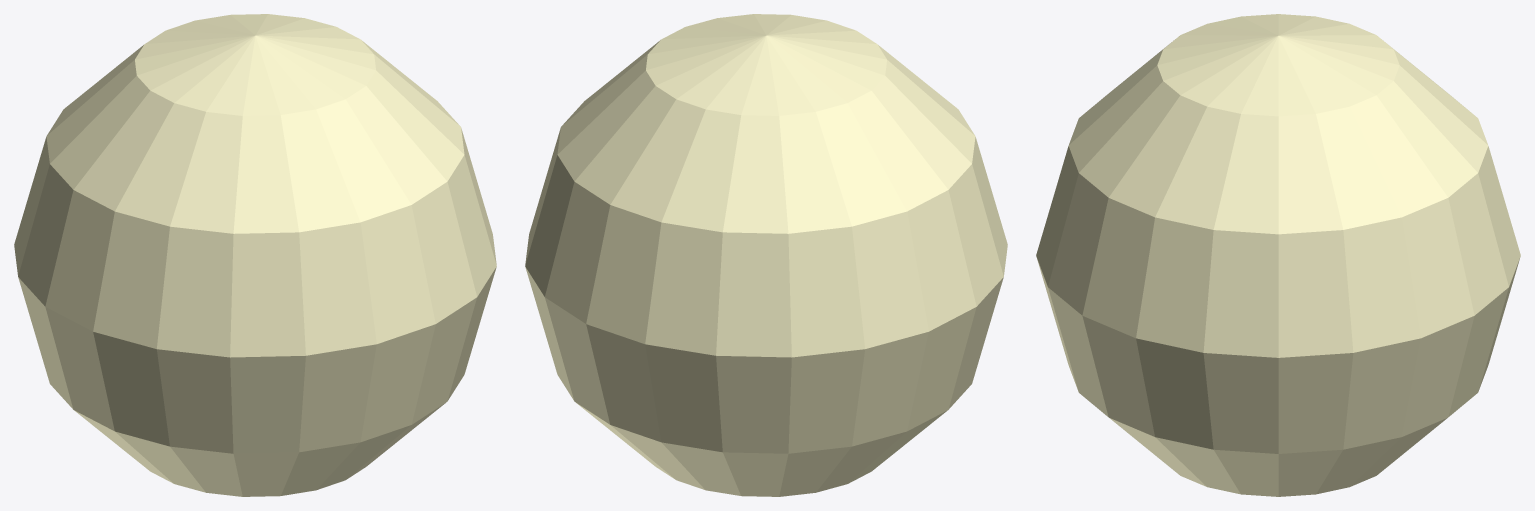
The model's file is egg.fbx.
The picture shows the model from 3 angles, left to right: view 1: azimuth 30°, elevation 25°; view 2: azimuth 150°, elevation 25°; view 3: azimuth 270°, elevation 25°; orthographic projection.
Visible parts, largest first — view 1: egg2; view 2: egg2; view 3: egg2.
Boxes of the visible parts, x1=… form: egg2: x1=14, y1=14, x2=496, y2=496; egg2: x1=525, y1=14, x2=1007, y2=496; egg2: x1=1036, y1=14, x2=1520, y2=496.
Size of the model in its own units: 2.89 by 2.89 by 2.89.
